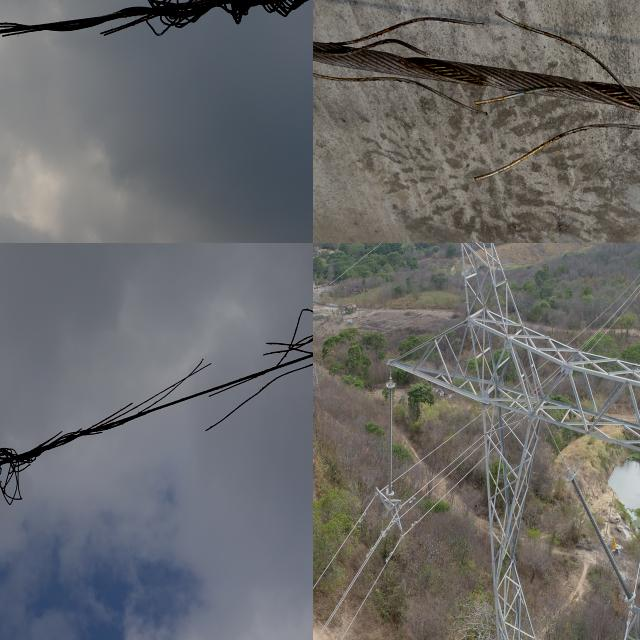杆塔: (391, 243, 640, 640)
正常电缆: (313, 530, 386, 640), (335, 538, 402, 640), (313, 496, 375, 598), (408, 461, 480, 537), (408, 436, 479, 505), (408, 410, 478, 476), (617, 535, 640, 640)
正常绝缘子: (566, 467, 628, 605), (380, 368, 400, 512)
电缆破损: (0, 300, 313, 505), (0, 0, 313, 58)
